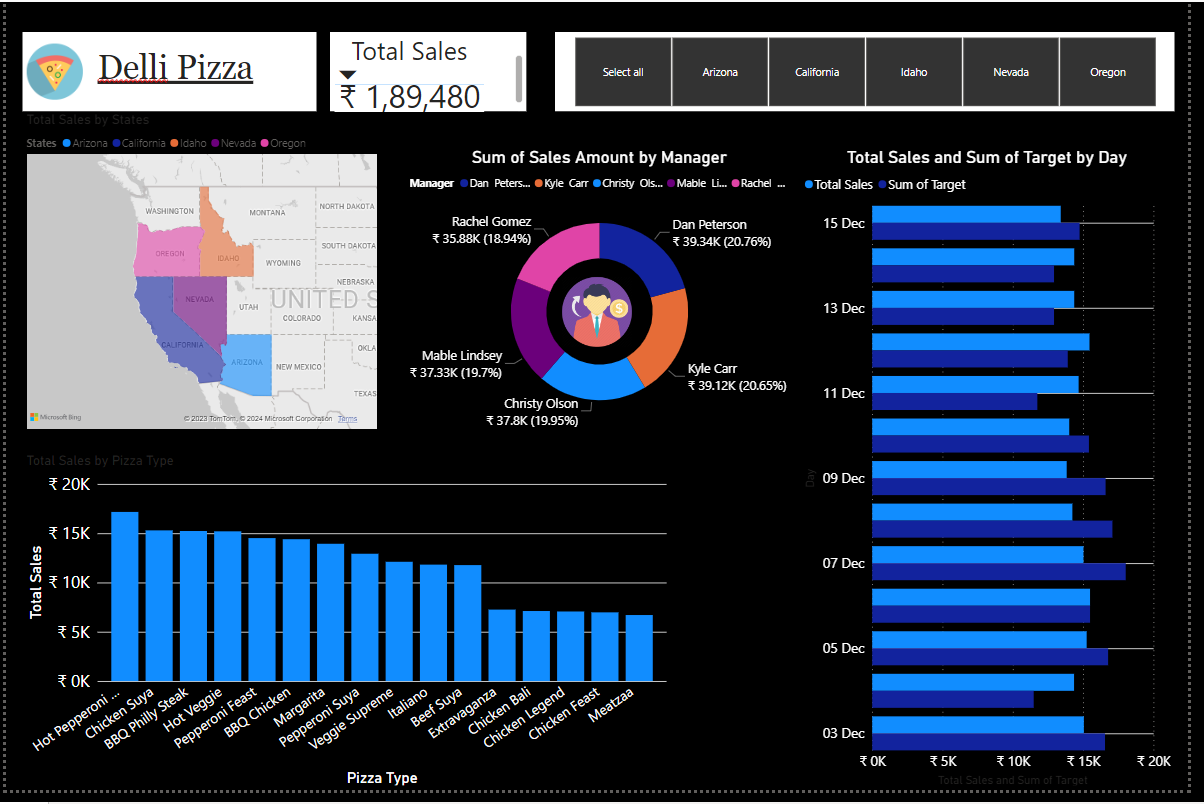

This screenshot's page, from the dashboard's own definition file:
{"tool":"powerbi","page":{"name":"Page 1","canvas":[1500,1000],"ordinal":0},"visuals":[{"type":"textbox","box":[21,38.1,373.3,101],"z":0},{"type":"image","box":[21,38.1,81.9,101],"z":1000},{"type":"slicer","fields":{"Values":["Sales.States"]},"box":[697.1,38.1,786.7,101],"z":2000},{"type":"tableEx","fields":{"Values":["Sales.Total Sales"]},"box":[411.4,38.1,249.5,101],"z":3000},{"type":"filledMap","title":"Total Sales by States ","fields":{"Category":["Sales.States"],"Series":["Sales.States"],"Y":["Sales.Total Sales"]},"box":[21,139,455.2,407.6],"z":4000},{"type":"donutChart","fields":{"Category":["Branch Data.Manager"],"Y":["Sales.Sales Amount"]},"box":[499,184.8,508.6,361.9],"z":5000},{"type":"image","box":[697.1,342.9,106.7,101],"z":6000},{"type":"columnChart","fields":{"Category":["Sales.Pizza Type"],"Y":["Sales.Total Sales"]},"box":[21,571.4,822.9,428.6],"z":7000},{"type":"clusteredBarChart","fields":{"Y":["Sales.Total Sales","Daily Target.Target"],"Category":["Daily Target.Day"]},"box":[1007.6,184.8,476.2,815.2],"z":8000}]}

Visuals, with their boxes in screenshot pixels (x1, y1, x2, y2), scaled from the page's 1500x1000 canvas onto the 1204x804 screenshot:
textbox: [17,31,316,112]
image: [17,31,83,112]
slicer - Sales.States: [560,31,1191,112]
tableEx - Sales.Total Sales: [330,31,530,112]
"Total Sales by States " filledMap: [17,112,382,439]
donutChart - Branch Data.Manager x Sales.Sales Amount: [401,149,809,440]
image: [560,276,645,357]
columnChart - Sales.Pizza Type x Sales.Total Sales: [17,459,677,803]
clusteredBarChart - Sales.Total Sales x Daily Target.Target: [809,149,1191,803]
